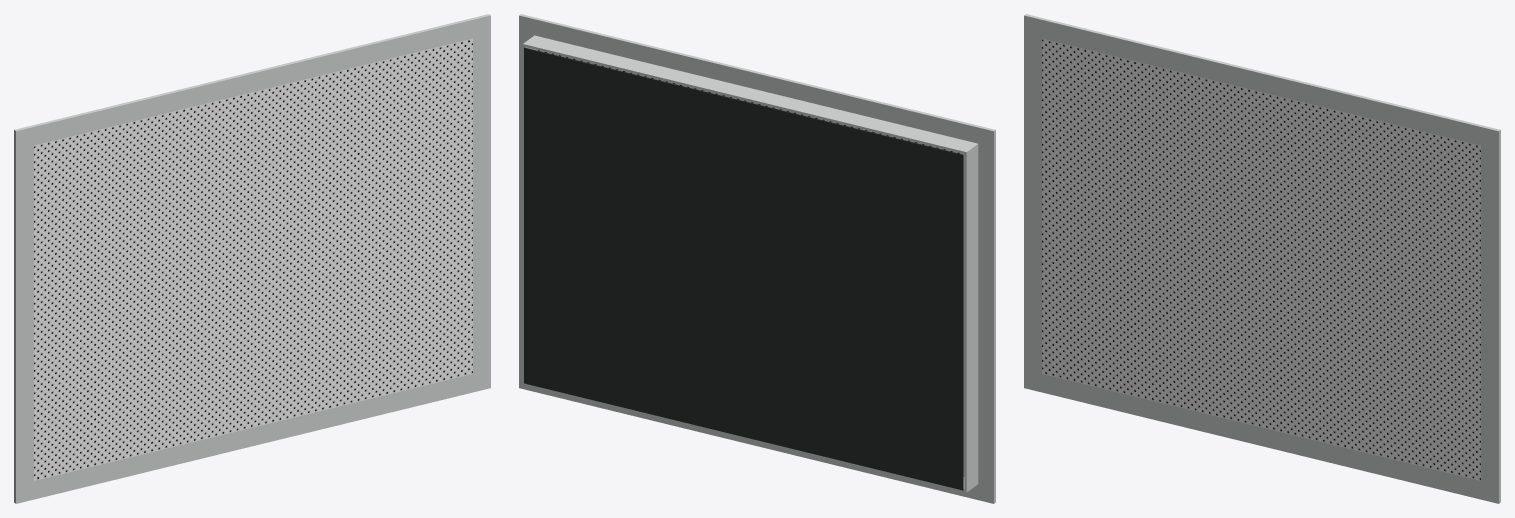
Rendered from ecoclima-egfr-400x300.glb.
The picture shows the model from 3 angles, left to right: view 1: azimuth 30°, elevation 25°; view 2: azimuth 150°, elevation 25°; view 3: azimuth 330°, elevation 25°; orthographic projection.
Visible parts, largest first — view 1: Profile_lamiera_forata, Profile_cornice.109, Profile_cornice.110, Profile_cornice.111, Profile_cornice.112; view 2: Interno.031, Profile_cornice.109, Profile_ritorno.116, Profile_cornice.111, Profile_ritorno.118, Profile_cornice.110, Profile_cornice.112, Profile_lamiera_forata, Profile_ritorno.117; view 3: Profile_lamiera_forata, Profile_cornice.109, Profile_cornice.110, Profile_cornice.112, Profile_cornice.111.
Part boxes in pixels (x1,y1,x2,y2): Profile_lamiera_forata: (34, 38, 472, 480); Profile_cornice.109: (14, 14, 490, 149); Profile_cornice.110: (14, 369, 490, 503); Profile_cornice.111: (14, 145, 33, 485); Profile_cornice.112: (473, 34, 490, 373); Interno.031: (524, 47, 963, 490); Profile_cornice.109: (519, 14, 995, 149); Profile_ritorno.116: (523, 35, 978, 154); Profile_cornice.111: (978, 146, 995, 485); Profile_ritorno.118: (964, 146, 978, 489); Profile_cornice.110: (519, 369, 995, 503); Profile_cornice.112: (519, 34, 537, 370); Profile_lamiera_forata: (538, 50, 964, 476); Profile_ritorno.117: (523, 382, 978, 492); Profile_lamiera_forata: (1042, 38, 1480, 480); Profile_cornice.109: (1024, 14, 1500, 149); Profile_cornice.110: (1024, 369, 1500, 503); Profile_cornice.112: (1481, 145, 1500, 485); Profile_cornice.111: (1024, 34, 1041, 373).
Bounding box in the file's own units: 0.4 × 0.3 × 0.022.
Materials: 3 (1 with a texture image).
